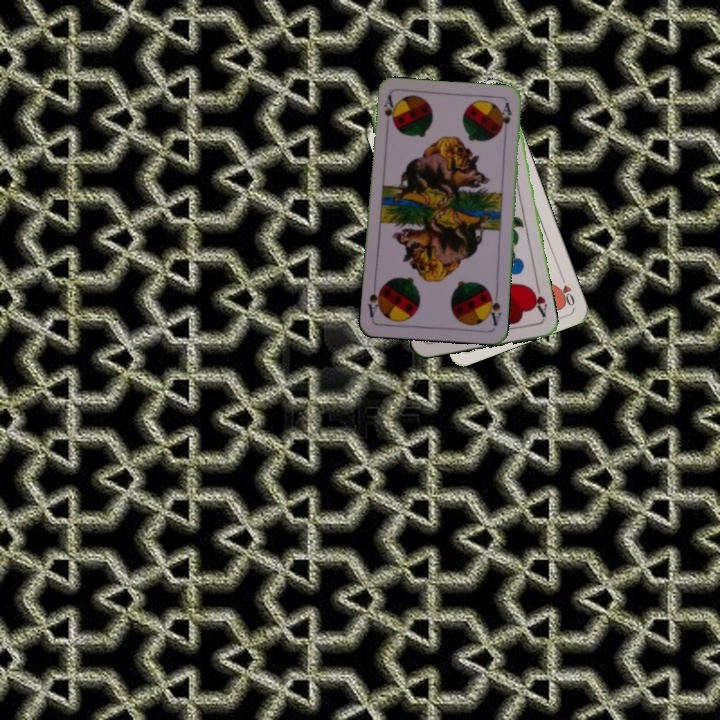HA: (527, 281, 550, 321)
HO: (555, 270, 577, 309)
SA: (484, 288, 503, 328), (380, 92, 397, 132)
